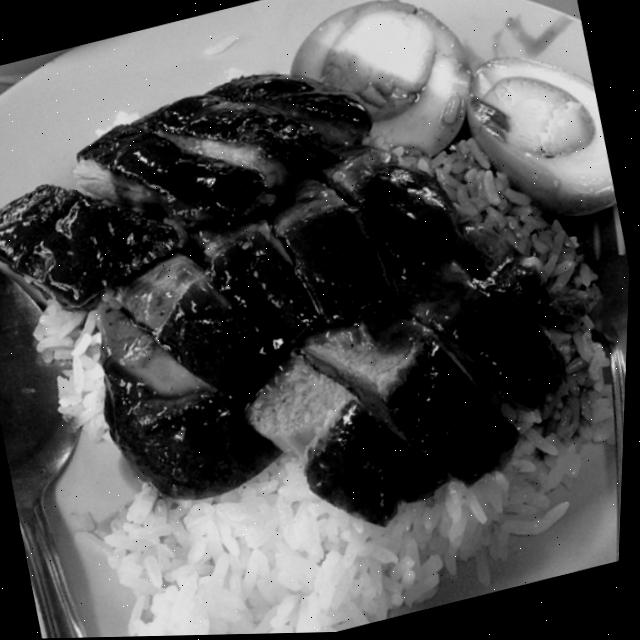米饭主食: (0, 8, 631, 640)
